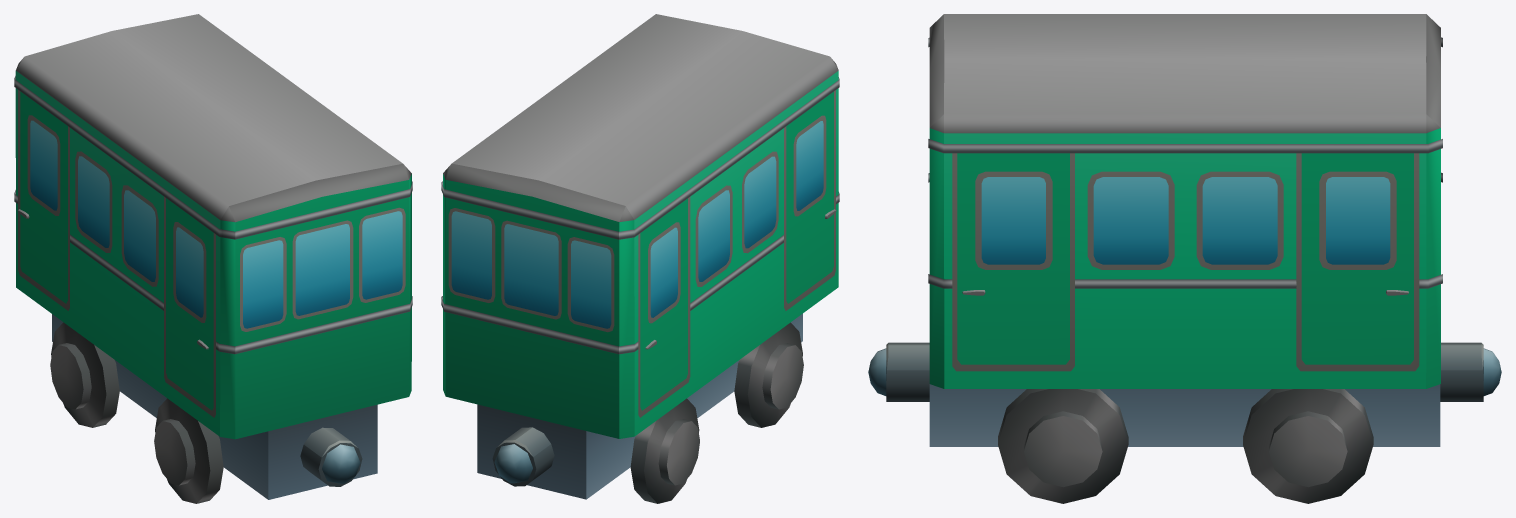
File: Carriage_Pass_A.fbx
3 views of the same model, side by side, from view 1: azimuth 30°, elevation 25°; view 2: azimuth 150°, elevation 25°; view 3: azimuth 270°, elevation 25° (orthographic). The views are drawn at different scales.
Visible parts, largest first — view 1: Carriage_Pass_A; view 2: Carriage_Pass_A; view 3: Carriage_Pass_A.
Part boxes in pixels (x1,y1,x2,y2): Carriage_Pass_A: (14,14,412,503); Carriage_Pass_A: (441,14,839,503); Carriage_Pass_A: (868,14,1501,503).
Bounding box in the file's own units: 296 × 468 × 676.
